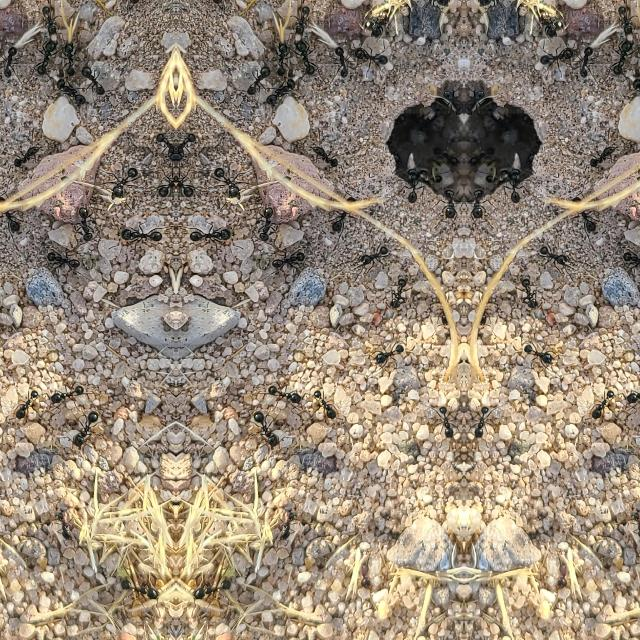Messor: (245, 406, 281, 448), (69, 406, 105, 448), (181, 220, 233, 246), (117, 220, 169, 246), (211, 163, 245, 201), (105, 163, 139, 201), (190, 572, 230, 604), (120, 572, 160, 604), (272, 501, 302, 543), (48, 501, 78, 543), (248, 202, 276, 245), (74, 202, 102, 245), (266, 244, 306, 274), (44, 244, 84, 274), (242, 56, 268, 102), (82, 56, 108, 102), (373, 335, 407, 369), (519, 335, 553, 369), (288, 39, 316, 80), (34, 39, 62, 80), (610, 39, 638, 80), (384, 266, 408, 312), (518, 266, 542, 312), (266, 72, 296, 106), (54, 72, 84, 106), (265, 380, 301, 408), (49, 380, 85, 408), (434, 400, 458, 440), (356, 240, 388, 270), (326, 198, 356, 230), (468, 400, 492, 440), (538, 240, 570, 270), (570, 198, 600, 230), (175, 127, 198, 165), (152, 127, 175, 165), (328, 44, 352, 80), (574, 44, 598, 80), (287, 4, 311, 38), (39, 4, 63, 38), (615, 4, 639, 38), (306, 141, 342, 163), (8, 141, 44, 163), (584, 141, 620, 163), (309, 386, 335, 416), (15, 386, 41, 416), (591, 386, 617, 416), (0, 198, 24, 230), (350, 45, 388, 65), (538, 45, 576, 65), (0, 44, 21, 80), (438, 185, 458, 222), (468, 185, 488, 222), (404, 165, 422, 203), (504, 165, 522, 203), (624, 501, 640, 543), (619, 244, 640, 274), (175, 175, 199, 201), (432, 142, 456, 168), (151, 175, 175, 201), (470, 142, 494, 168), (271, 38, 287, 76), (63, 38, 79, 76), (369, 14, 391, 34), (535, 14, 557, 34), (625, 380, 640, 408), (630, 71, 640, 106)
